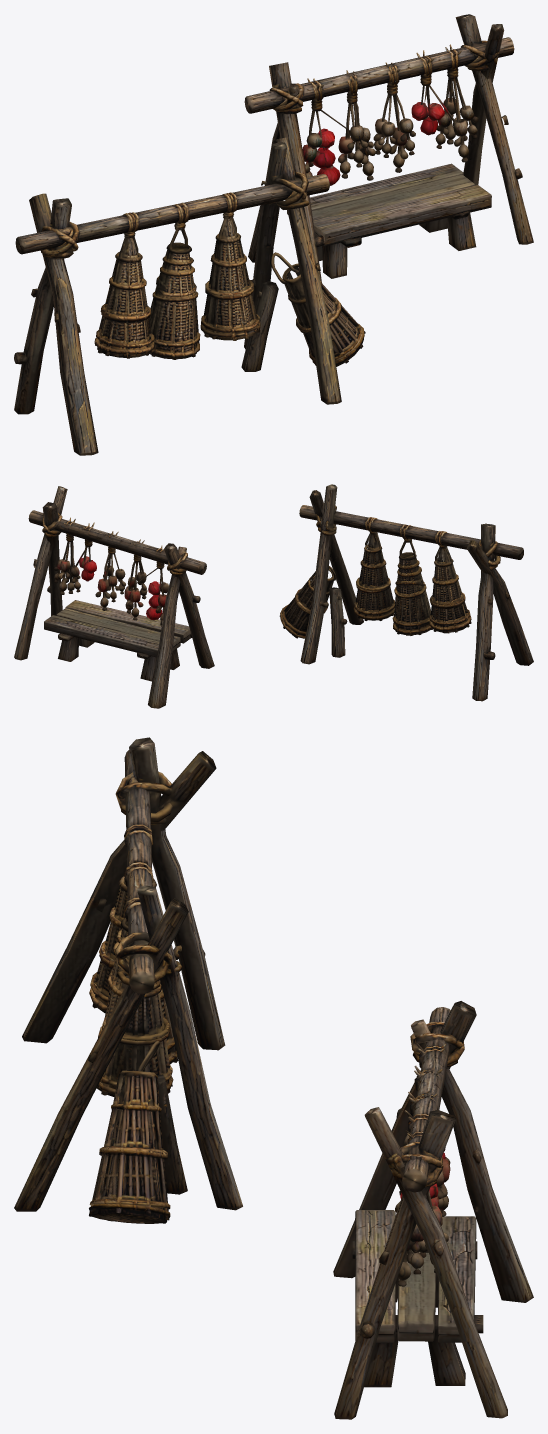
Rendered from act1_kit_v1_R15_drying_racks.glb.
3 views of the same model, one above another, from view 1: azimuth 30°, elevation 25°; view 2: azimuth 150°, elevation 25°; view 3: azimuth 270°, elevation 25° (orthographic). The views are drawn at different scales.
Parts seen in each view (by area): view 1: tripo_6a1ea9bc_5587_4447_acb3_0b4992ac374d; view 2: tripo_6a1ea9bc_5587_4447_acb3_0b4992ac374d; view 3: tripo_6a1ea9bc_5587_4447_acb3_0b4992ac374d.
Boxes of the visible parts, x1,y1,x2,y2 form: tripo_6a1ea9bc_5587_4447_acb3_0b4992ac374d: [14, 14, 533, 455]; tripo_6a1ea9bc_5587_4447_acb3_0b4992ac374d: [14, 484, 533, 708]; tripo_6a1ea9bc_5587_4447_acb3_0b4992ac374d: [14, 737, 533, 1419].
Size of the model in its own units: 0.9995 by 0.3853 by 0.5503.
1 material, 1 textured.
